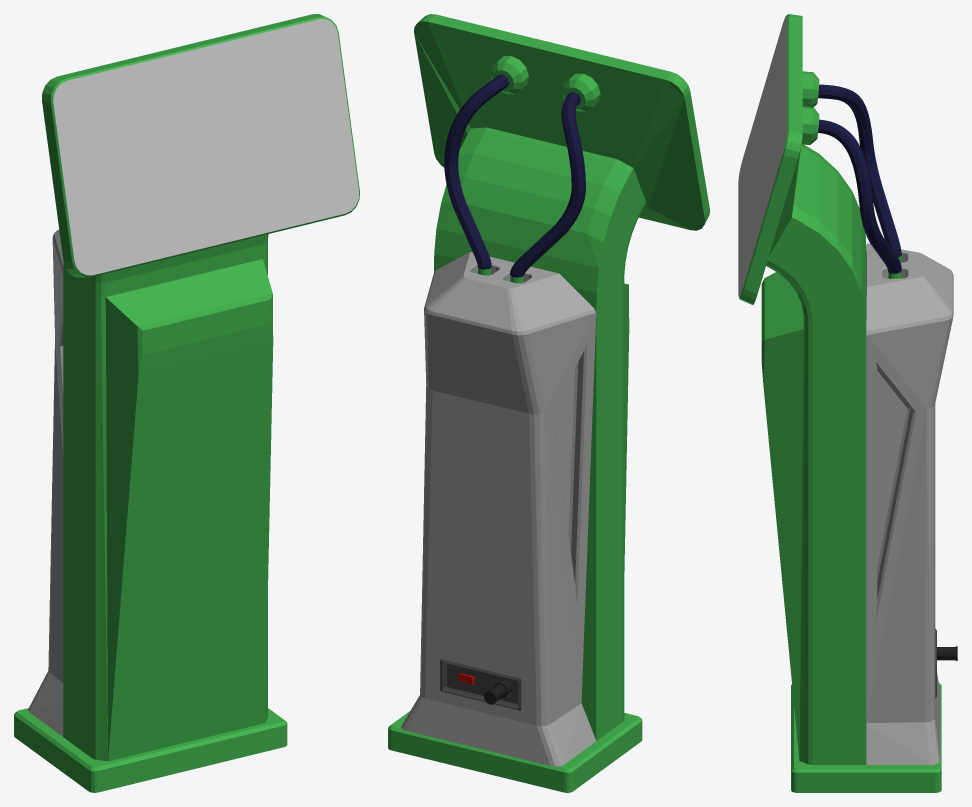
Rendered from info panel.fbx.
3 renders of one model, left to right at view 1: azimuth 30°, elevation 25°; view 2: azimuth 150°, elevation 25°; view 3: azimuth 270°, elevation 25°, orthographic. The views are drawn at different scales.
Parts seen in each view (by area): view 1: Body, Screen; view 2: Body; view 3: Body, Screen.
Part boxes in pixels (x1,y1,x2,y2): Body: (14, 14, 359, 792); Screen: (53, 19, 358, 275); Body: (388, 14, 709, 792); Body: (739, 14, 957, 792); Screen: (738, 15, 786, 296).
Size of the model in its own units: 50 by 119 by 34.95.
